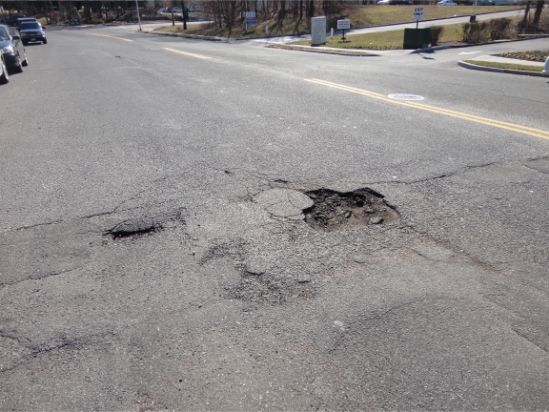pothole: (295, 181, 403, 230)
